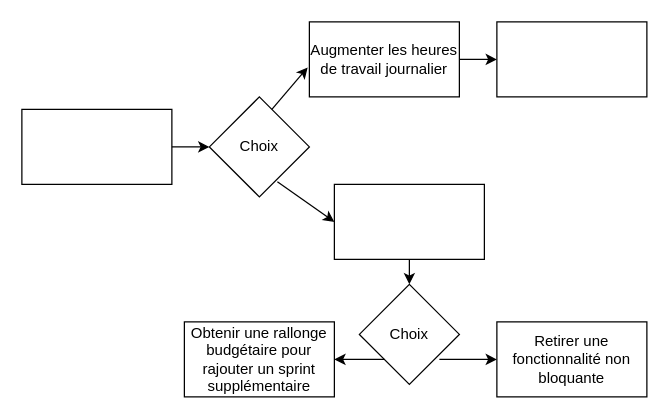
The diagram is 669 pixels wide and 419 high, and some of its shapes have lost their labels. The shapes that lost their labels are listed below. From the top down, each one's centre as x and y in pixels, then its label:
At point 571,59: "Fatigue des équipes".
At point 96,146: "Retard sur le projet sur le sprint 1 non rattrapé au sprint 2".
At point 408,221: "Demander l'avis du client".
